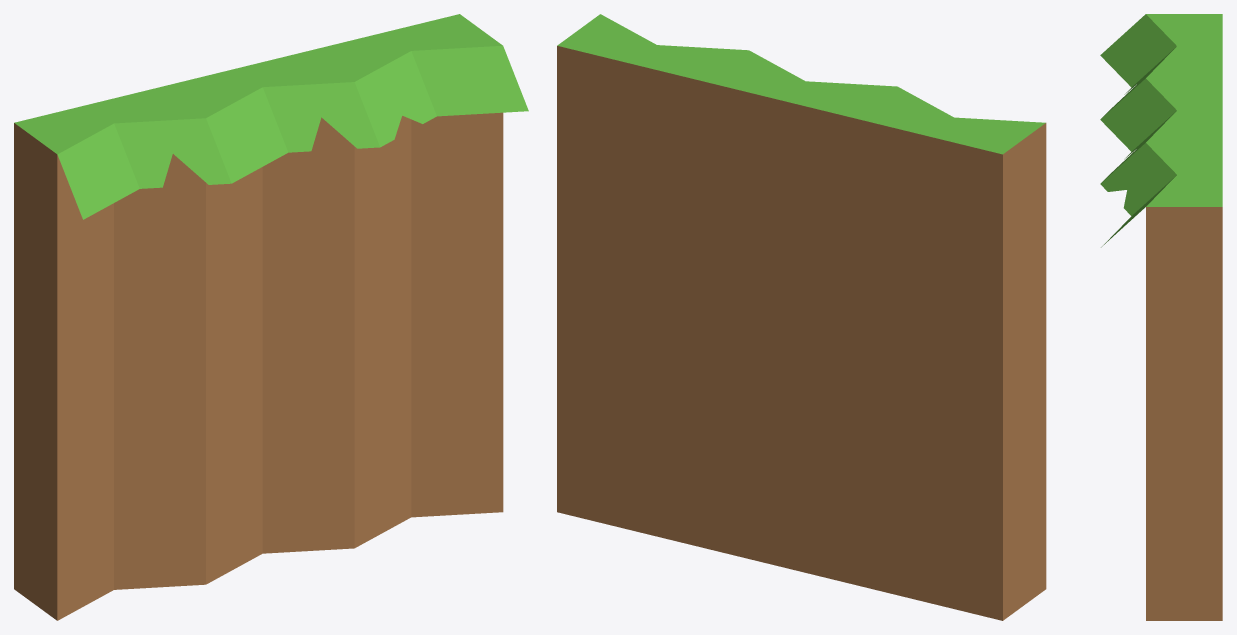
Rendered from cliff-wall-top.glb.
3 views of the same model, side by side, from view 1: azimuth 30°, elevation 25°; view 2: azimuth 150°, elevation 25°; view 3: azimuth 270°, elevation 25° (orthographic). The views are drawn at different scales.
Parts seen in each view (by area): view 1: cliff_top_rock; view 2: cliff_top_rock; view 3: cliff_top_rock.
Boxes of the visible parts, x1,y1,x2,y2 form: cliff_top_rock: [14, 14, 528, 620]; cliff_top_rock: [557, 14, 1046, 620]; cliff_top_rock: [1100, 14, 1222, 620].
Size of the model in its own units: 4 by 4 by 1.07.
